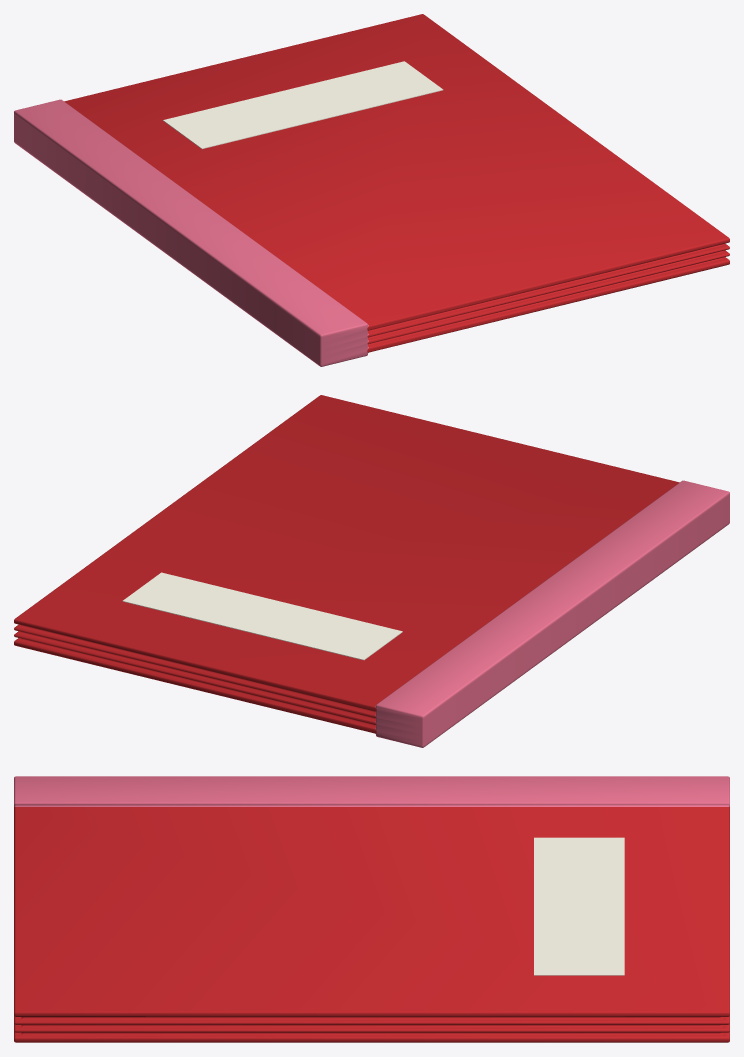
The model's file is note_01.fbx.
3 views of the same model, one above another, from view 1: azimuth 30°, elevation 25°; view 2: azimuth 150°, elevation 25°; view 3: azimuth 270°, elevation 25° (orthographic). The views are drawn at different scales.
Parts seen in each view (by area): view 1: note_01; view 2: note_01; view 3: note_01.
Part boxes in pixels (<box>): note_01: <box>14,14,729,366</box>; note_01: <box>14,395,729,747</box>; note_01: <box>14,776,729,1042</box>.
Bounding box in the file's own units: 1.79 × 0.1356 × 2.32.
